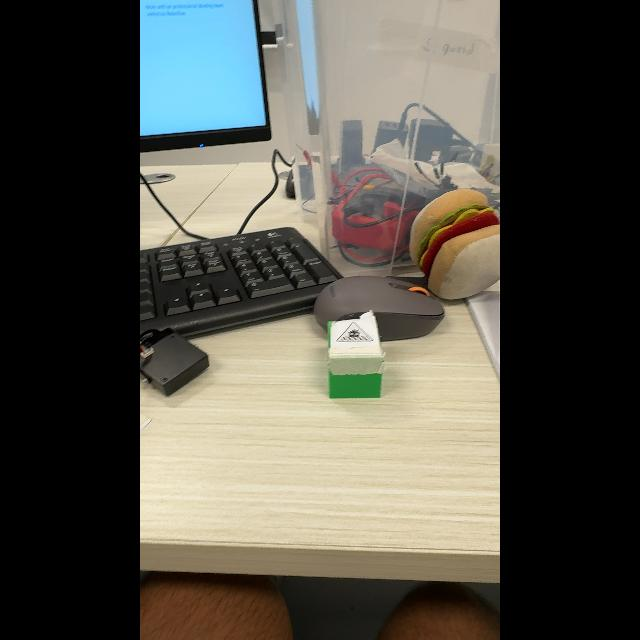Tsunami: (336, 322, 373, 343)
